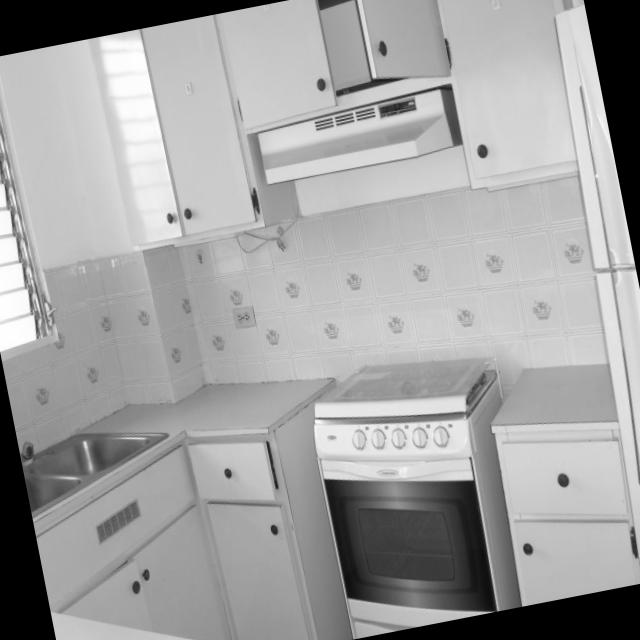2003: (0, 112, 59, 362)
2036: (82, 378, 337, 434)
cupboard: (36, 438, 234, 640)
cupboard crop: (88, 16, 299, 253), (184, 379, 353, 640), (213, 0, 448, 134), (437, 0, 576, 196)
cupboard door: (491, 365, 640, 604)
extractor hood: (259, 82, 463, 184)
fridge occluded: (557, 5, 640, 537)
outlet: (231, 305, 256, 329)
sink basin: (24, 431, 165, 517)
stove burner: (315, 359, 519, 638)
wall clock: (92, 0, 640, 405), (0, 42, 170, 464)
